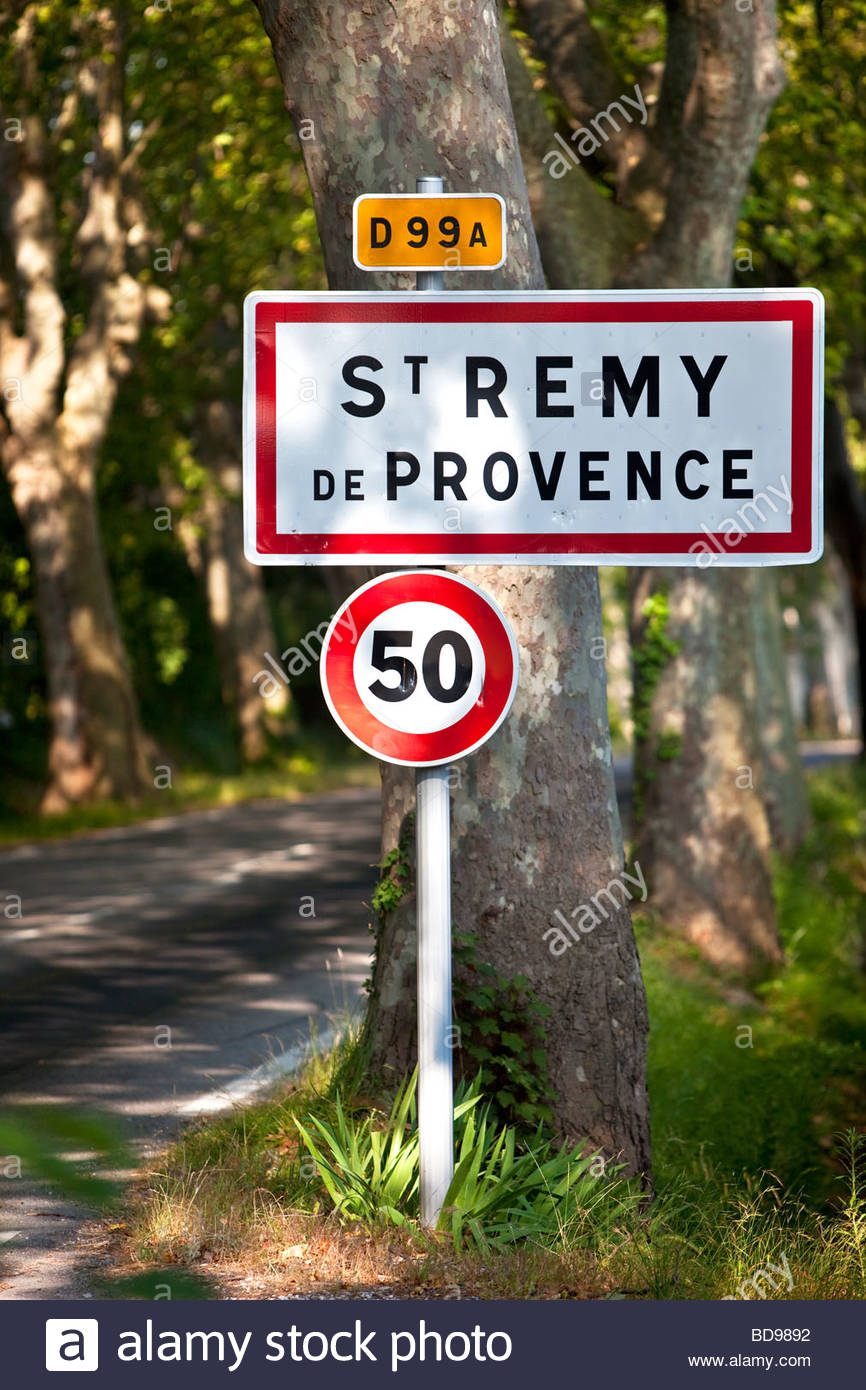speed_limit_50: (322, 575, 522, 768)
